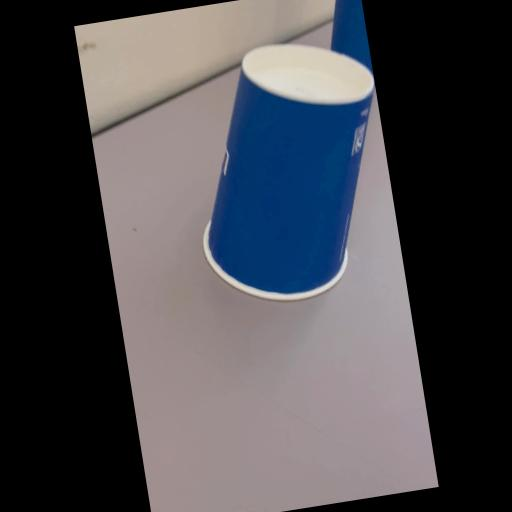lp_paper_cup: (171, 26, 405, 312)
